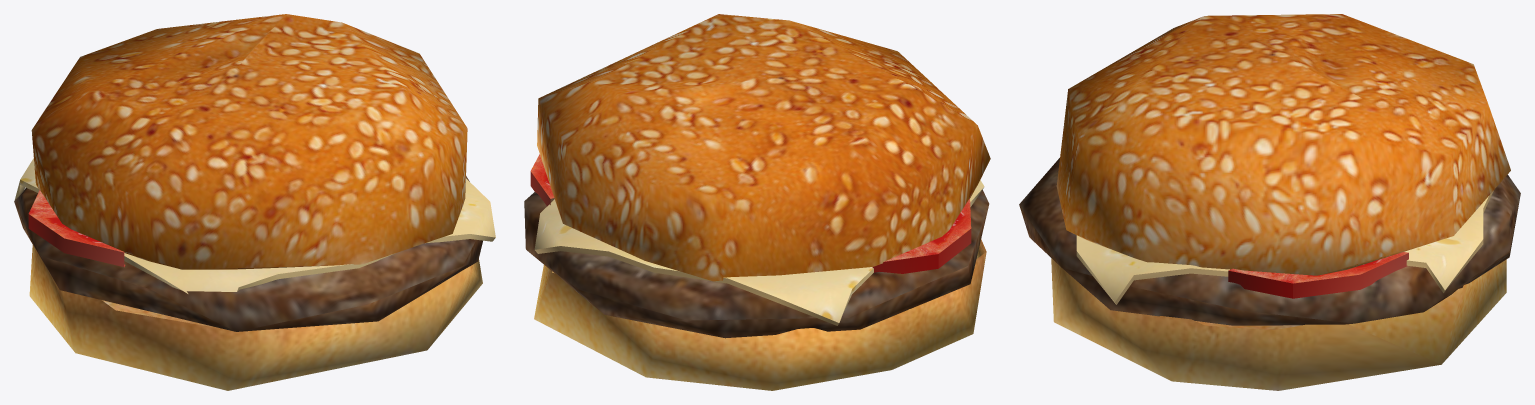
File: burger_M.fbx
The picture shows the model from 3 angles, left to right: view 1: azimuth 30°, elevation 25°; view 2: azimuth 150°, elevation 25°; view 3: azimuth 270°, elevation 25°; orthographic projection. The views are drawn at different scales.
Visible parts, largest first — view 1: burger_bun_01_LOD00, burger_bun_04_LOD00, chopped_steak__LOD00, cheese_LOD00, tomatoe_LOD00.001; view 2: burger_bun_01_LOD00, burger_bun_04_LOD00, chopped_steak__LOD00, cheese_LOD00, tomatoe_LOD00.001, tomatoe_LOD00; view 3: burger_bun_01_LOD00, burger_bun_04_LOD00, chopped_steak__LOD00, cheese_LOD00, tomatoe_LOD00.
Part boxes in pixels (bbox=[...]): burger_bun_01_LOD00: bbox=[31, 14, 467, 269]; burger_bun_04_LOD00: bbox=[29, 245, 482, 390]; chopped_steak__LOD00: bbox=[14, 176, 482, 331]; cheese_LOD00: bbox=[15, 158, 495, 293]; tomatoe_LOD00.001: bbox=[28, 190, 125, 267]; burger_bun_01_LOD00: bbox=[537, 14, 990, 281]; burger_bun_04_LOD00: bbox=[534, 239, 986, 390]; chopped_steak__LOD00: bbox=[524, 190, 989, 338]; cheese_LOD00: bbox=[534, 180, 984, 325]; tomatoe_LOD00.001: bbox=[872, 199, 971, 273]; tomatoe_LOD00: bbox=[530, 154, 554, 206]; burger_bun_01_LOD00: bbox=[1056, 14, 1510, 275]; burger_bun_04_LOD00: bbox=[1051, 258, 1506, 390]; chopped_steak__LOD00: bbox=[1019, 158, 1520, 325]; cheese_LOD00: bbox=[1076, 190, 1493, 304]; tomatoe_LOD00: bbox=[1228, 252, 1408, 298].
Bounding box in the file's own units: 14.51 × 7.49 × 14.71.
